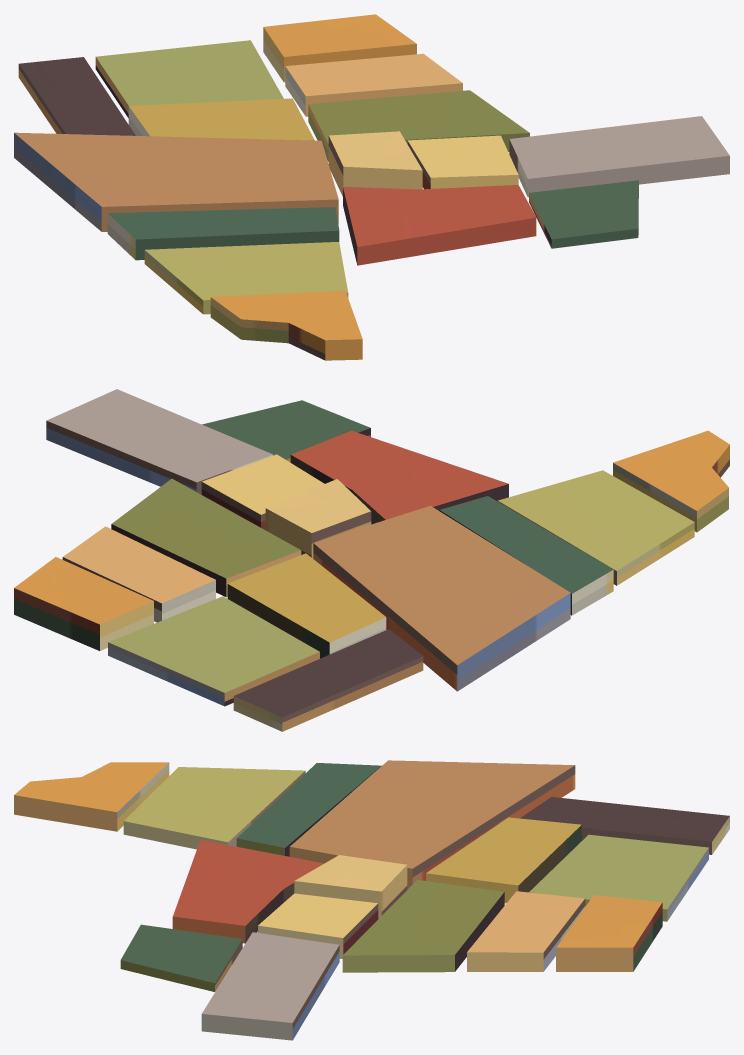
Rendered from Fields.glb.
3 views of the same model, one above another, from view 1: azimuth 30°, elevation 25°; view 2: azimuth 150°, elevation 25°; view 3: azimuth 270°, elevation 25° (orthographic). The views are drawn at different scales.
Visible parts, largest first — view 1: Cube.001, Cube.013, Cube.012, Cube.003, Cube.005, Cube.002, Cube.009, Cube.015, Cube.008, Cube.004, Cube.007, Cube.014 (+3 smaller); view 2: Cube.001, Cube.005, Cube.013, Cube.003, Cube.012, Cube.009, Cube.006, Cube.004, Cube.007, Cube.002, Cube.015, Cube.008 (+3 smaller); view 3: Cube.001, Cube.013, Cube.009, Cube.003, Cube.012, Cube.005, Cube.004, Cube.015, Cube.008, Cube.007, Cube.006, Cube.002 (+3 smaller).
Part boxes in pixels (<box>): Cube.001: <box>14,132,338,231</box>; Cube.013: <box>509,116,729,197</box>; Cube.012: <box>343,185,536,265</box>; Cube.003: <box>144,242,348,314</box>; Cube.005: <box>95,40,283,117</box>; Cube.002: <box>107,207,339,260</box>; Cube.009: <box>308,90,529,161</box>; Cube.015: <box>210,290,362,360</box>; Cube.008: <box>285,53,462,116</box>; Cube.004: <box>128,98,314,140</box>; Cube.007: <box>263,14,416,82</box>; Cube.014: <box>529,180,638,248</box>; Cube.001: <box>313,506,570,691</box>; Cube.005: <box>108,596,319,706</box>; Cube.013: <box>46,389,272,494</box>; Cube.003: <box>497,470,694,585</box>; Cube.012: <box>290,430,508,524</box>; Cube.009: <box>111,478,301,597</box>; Cube.006: <box>233,629,423,731</box>; Cube.004: <box>227,553,386,658</box>; Cube.007: <box>14,557,153,650</box>; Cube.002: <box>439,496,613,615</box>; Cube.015: <box>613,430,729,532</box>; Cube.008: <box>62,526,215,622</box>; Cube.001: <box>289,760,575,889</box>; Cube.013: <box>201,932,339,1040</box>; Cube.009: <box>342,880,504,972</box>; Cube.003: <box>123,767,305,849</box>; Cube.012: <box>172,840,324,943</box>; Cube.005: <box>529,834,708,921</box>; Cube.004: <box>426,817,581,903</box>; Cube.015: <box>14,762,169,831</box>; Cube.008: <box>467,891,585,971</box>; Cube.007: <box>556,895,662,971</box>; Cube.006: <box>520,797,729,854</box>; Cube.002: <box>236,763,381,856</box>.
Size of what is drawn, in the model's own units: 4.72 by 0.2536 by 5.49.
1 material, 1 textured.
